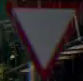Give way: (4, 0, 82, 74)
